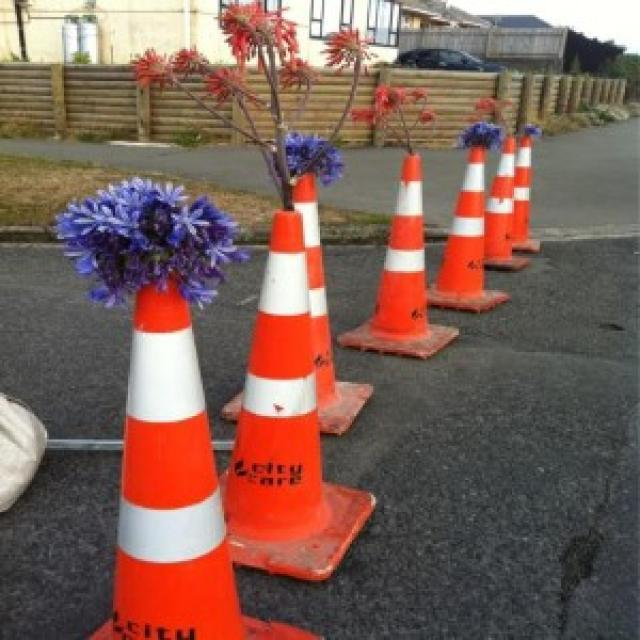car: (397, 48, 507, 73)
traffic cone: (84, 272, 258, 640), (220, 200, 376, 581), (338, 150, 461, 361), (290, 172, 374, 436), (425, 146, 512, 314), (479, 133, 529, 272), (510, 135, 542, 255)
